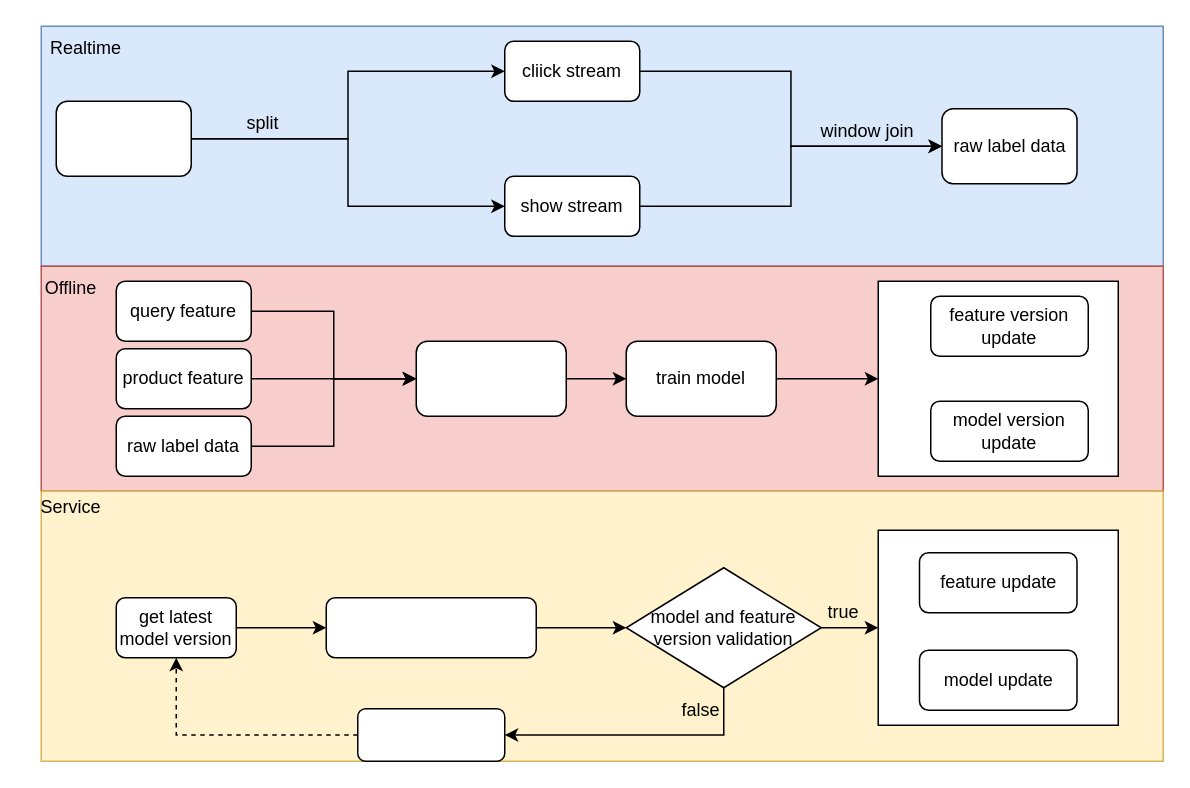
This 1190x788 diagram has some shape labels left out. The centre of each missing label's shape, as x and y in pixels:
"get correspsonding feature version" belongs at (430,627).
"merged label data" belongs at (490,378).
"sleep" belongs at (430,734).
"user behavior" belongs at (123,138).
